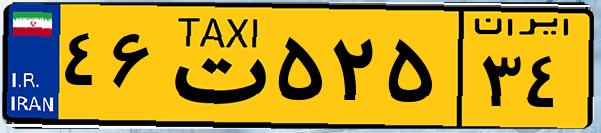2: (330, 28, 385, 110)
3: (475, 38, 525, 113)
4: (57, 26, 110, 100), (525, 38, 570, 115)
5: (270, 28, 330, 110), (385, 28, 445, 110)
6: (110, 28, 158, 98)
ت: (158, 12, 270, 120)
